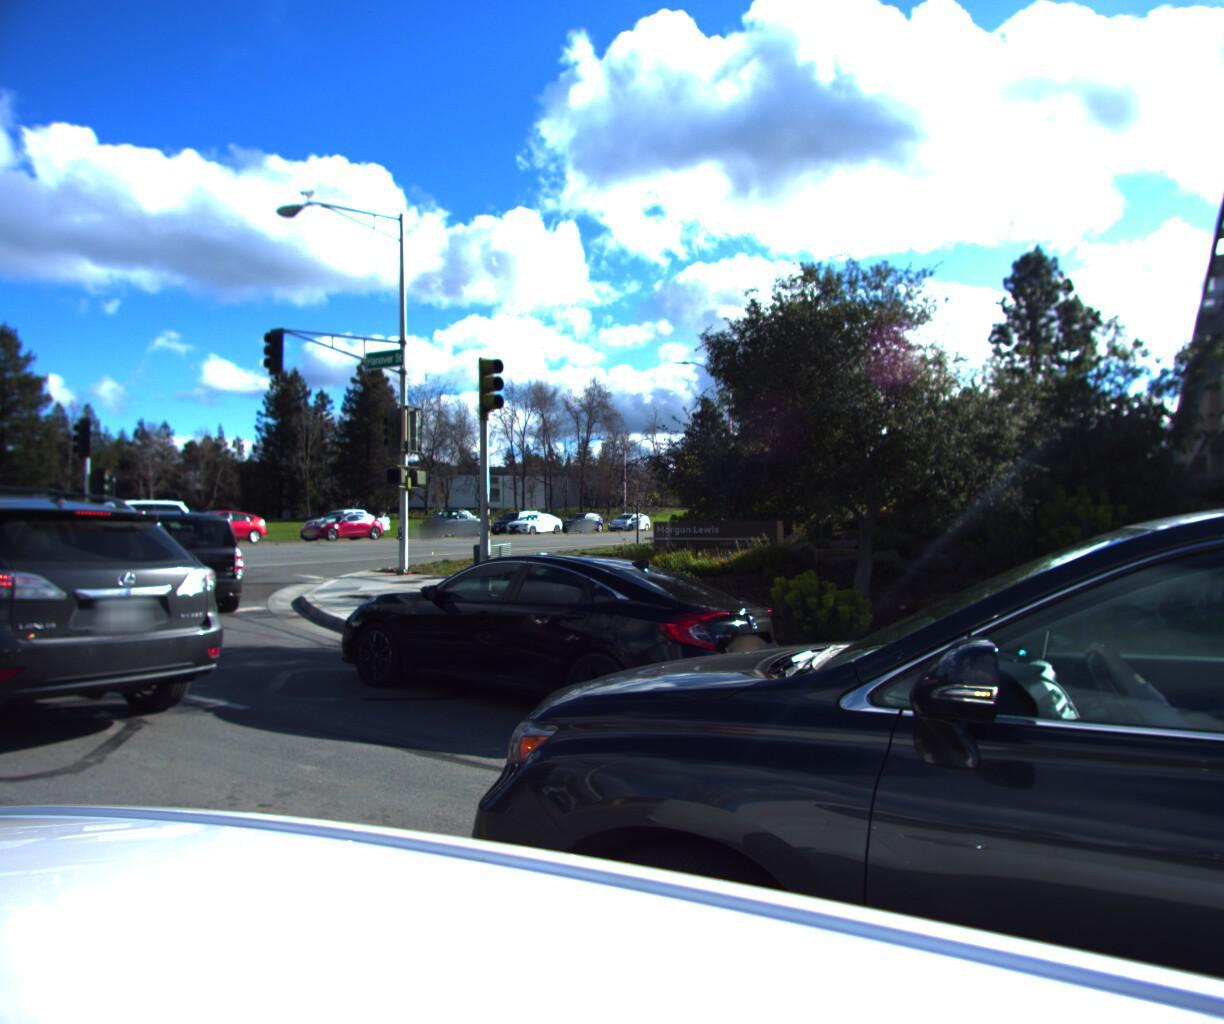bicycle: (0, 476, 60, 657)
car: (346, 0, 1224, 1024), (322, 532, 817, 744), (0, 461, 241, 793), (73, 498, 260, 627), (28, 496, 197, 554), (152, 511, 272, 548), (298, 509, 396, 542), (290, 513, 388, 544), (415, 508, 494, 539), (409, 510, 483, 538), (499, 513, 566, 537), (604, 513, 654, 533), (557, 515, 607, 534)
